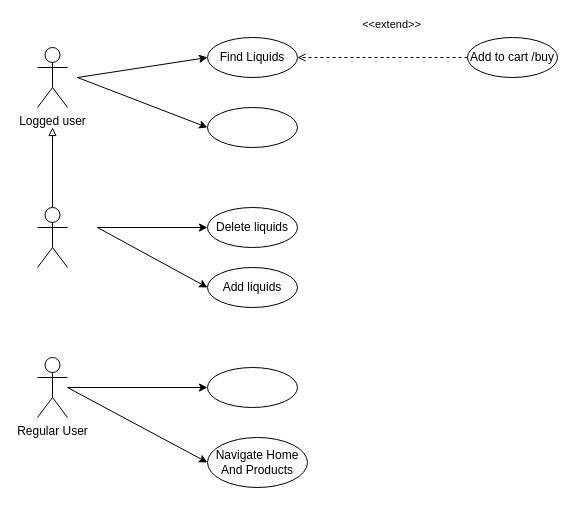
Some shapes in this 575 by 505 pixel diagram are drawn without their labels. Each missing label, with the centre of its shape:
Admin: point (52, 237)
Login: point (252, 127)
Sign in: point (252, 387)
